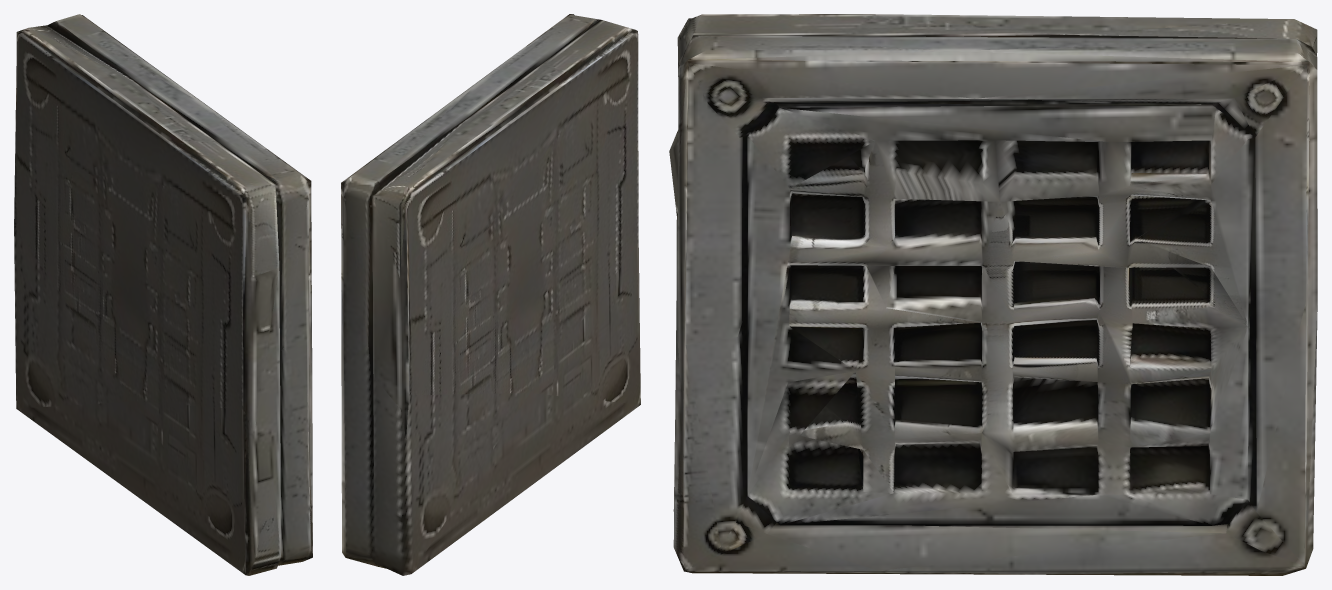
Rendered from tripo_convert_c1b73dba-afdc-48a2-9a3e-b5fe3007835b.fbx.
The picture shows the model from 3 angles, left to right: view 1: azimuth 30°, elevation 25°; view 2: azimuth 150°, elevation 25°; view 3: azimuth 270°, elevation 25°; orthographic projection. The views are drawn at different scales.
Parts seen in each view (by area): view 1: tripo_node_c1b73dba; view 2: tripo_node_c1b73dba; view 3: tripo_node_c1b73dba.
Part boxes in pixels (box(x1,y1,x2,y2)): tripo_node_c1b73dba: box(14, 14, 312, 575); tripo_node_c1b73dba: box(341, 14, 640, 575); tripo_node_c1b73dba: box(669, 14, 1317, 575).
Bounding box in the file's own units: 0.1706 × 0.8954 × 1.
Materials: 1 (1 with a texture image).
